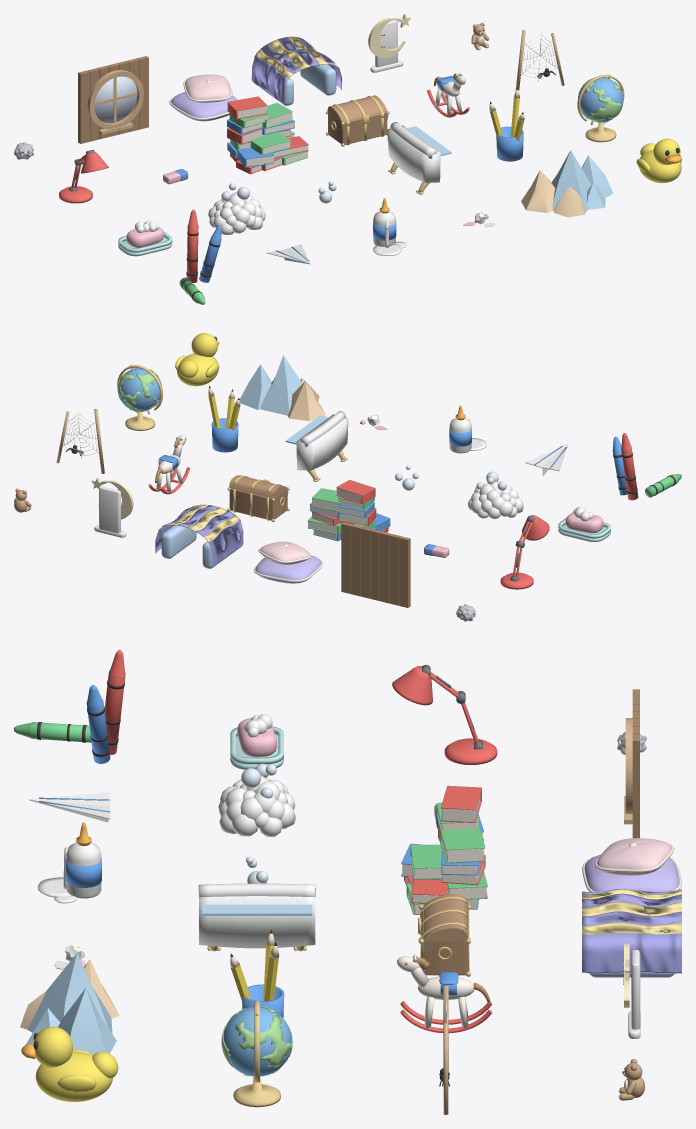
Rendered from RunwayWorld4House.fbx.
The picture shows the model from 3 angles, top to bottom: view 1: azimuth 30°, elevation 25°; view 2: azimuth 150°, elevation 25°; view 3: azimuth 270°, elevation 25°; orthographic projection. The views are drawn at different scales.
Visible parts, largest first — view 1: WindowWall, PaperHillA, TunnelBlanket, BookPages, BubbleFoam, TubSide, PaperHillB, WindowFrame, DuckBody, WindowGlass, BookCoversC, BookCoversA (+24 smaller); view 2: WindowWall, PaperHillA, TunnelBlanket, DuckBody, TubSide, BookPages, BubbleFoam, TrunkBody, TunnelCushions, LampMetal, PillowClothA, NightLightBase (+24 smaller); view 3: TunnelBlanket, TubSide, PaperHillA, DuckBody, BubbleFoam, BookPages, TunnelStripes, LampMetal, BookCoversC, GlobeOcean, PillowClothB, PillowClothA (+27 smaller).
Boxes of the visible parts, <box> form: WindowWall: <box>78,56,148,143</box>; PaperHillA: <box>551,150,613,211</box>; TunnelBlanket: <box>251,37,341,104</box>; BookPages: <box>237,106,308,172</box>; BubbleFoam: <box>208,192,265,234</box>; TubSide: <box>387,125,440,182</box>; PaperHillB: <box>521,170,585,217</box>; WindowFrame: <box>87,70,143,134</box>; DuckBody: <box>636,138,681,183</box>; WindowGlass: <box>94,76,137,123</box>; BookCoversC: <box>229,102,308,165</box>; BookCoversA: <box>227,96,308,174</box>; WindowWall: <box>341,522,410,607</box>; PaperHillA: <box>239,355,302,415</box>; TunnelBlanket: <box>155,504,243,567</box>; DuckBody: <box>175,333,219,386</box>; TubSide: <box>296,414,348,470</box>; BookPages: <box>308,488,367,539</box>; BubbleFoam: <box>468,481,523,519</box>; TrunkBody: <box>229,488,287,520</box>; TunnelCushions: <box>161,525,235,568</box>; LampMetal: <box>500,515,549,589</box>; PillowClothA: <box>255,555,321,583</box>; NightLightBase: <box>94,486,126,537</box>; TunnelBlanket: <box>582,888,681,973</box>; TubSide: <box>199,894,315,948</box>; PaperHillA: <box>26,953,116,1054</box>; DuckBody: <box>33,1026,118,1101</box>; BubbleFoam: <box>218,775,295,836</box>; BookPages: <box>402,795,486,913</box>; TunnelStripes: <box>582,889,681,934</box>; LampMetal: <box>392,666,497,764</box>; BookCoversC: <box>406,802,487,914</box>; GlobeOcean: <box>223,1007,291,1076</box>; PillowClothB: <box>597,838,671,875</box>; PillowClothA: <box>584,854,679,892</box>.
Bounding box in the file's own units: 14365 × 1900 × 10694.
